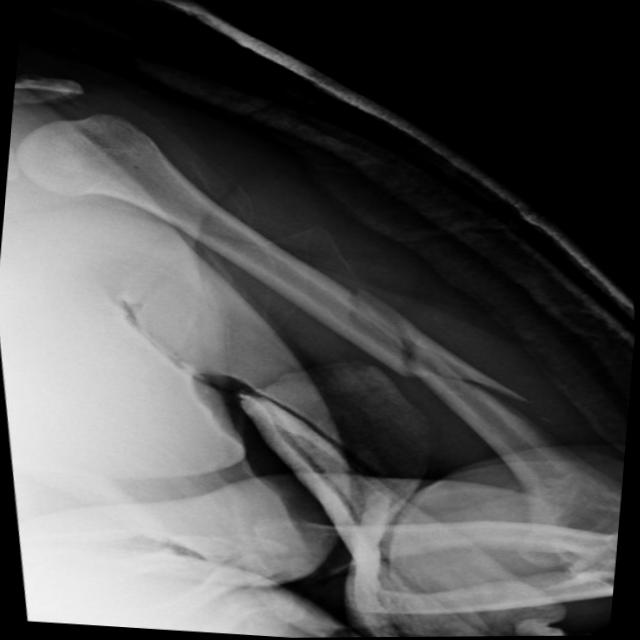Spiral: (304, 272, 547, 412)
